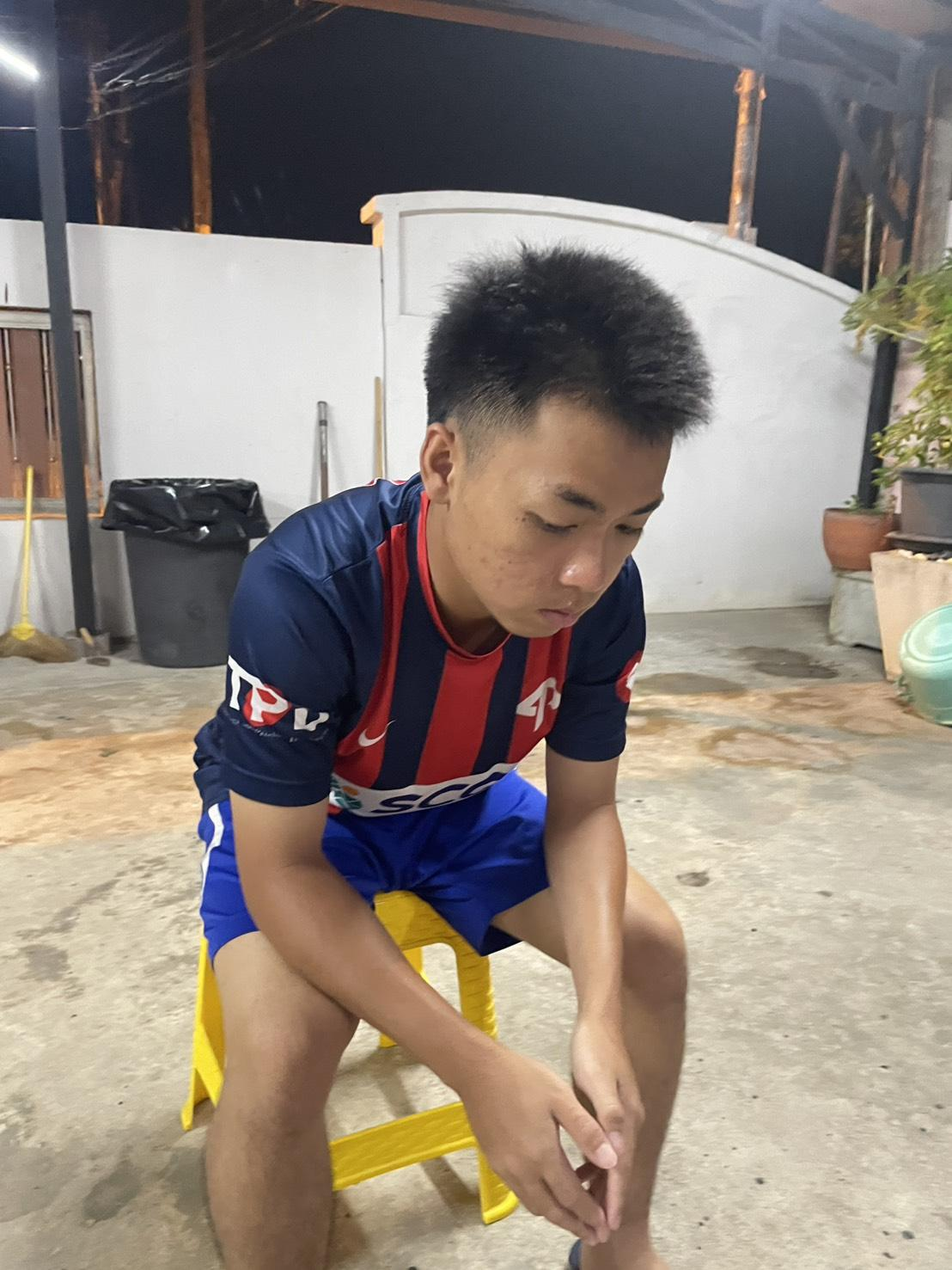BadPosture: (196, 245, 709, 950), (205, 243, 710, 818)
